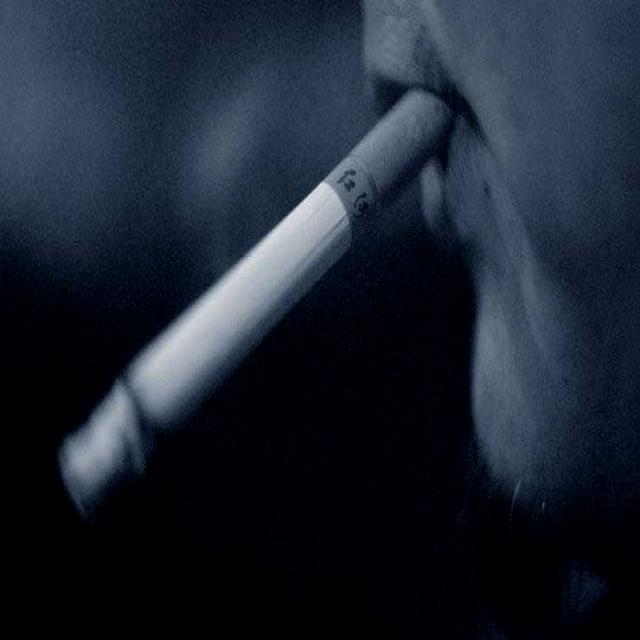Smooking: (55, 54, 458, 554)
